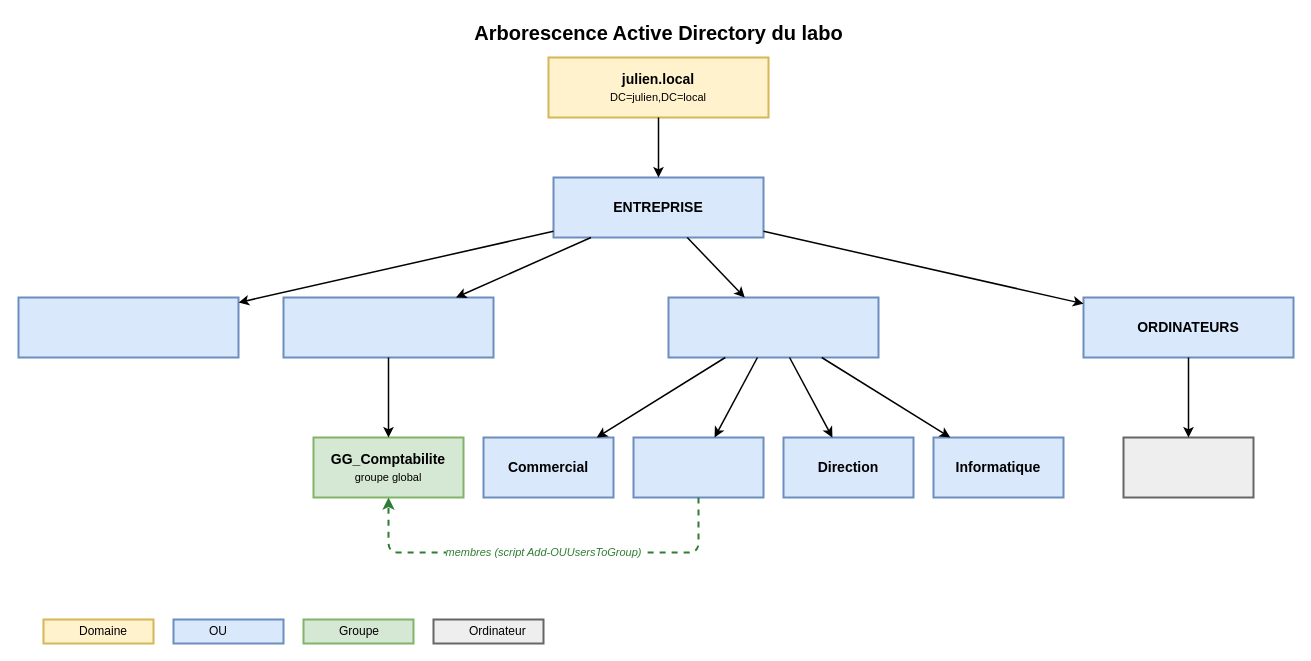
Image size: 1311x661. Some labels were removed from this diagram. The centre of each missing label's shape, as x and y in pixels:
Compta2 ordinateur: (x=1188, y=467)
Comptabilite: (x=698, y=467)
COMPTES-TECHNIQUES vide pour l'instant (à compléter): (x=128, y=327)
GROUPES: (x=388, y=327)
UTILISATEURS: (x=773, y=327)
